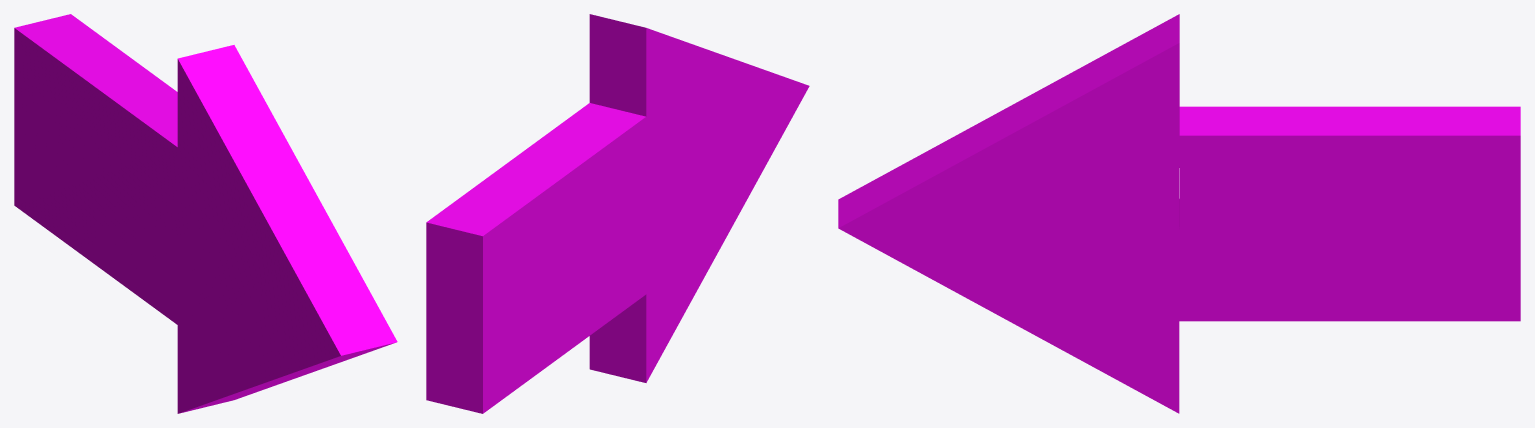
The model's file is cone_fwd_new.fbx.
3 views of the same model, side by side, from view 1: azimuth 30°, elevation 25°; view 2: azimuth 150°, elevation 25°; view 3: azimuth 270°, elevation 25° (orthographic). The views are drawn at different scales.
Parts seen in each view (by area): view 1: Cube; view 2: Cube; view 3: Cube.
Boxes of the visible parts, left/top/right/bottom form: Cube: left=14, top=14, right=397, bottom=413; Cube: left=426, top=14, right=809, bottom=413; Cube: left=838, top=14, right=1520, bottom=413.
Bounding box in the file's own units: 10 × 60 × 100.
